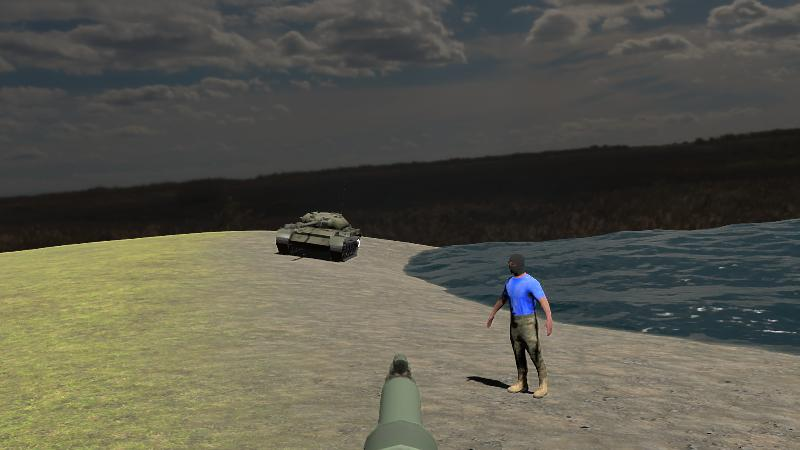Tank: (275, 209, 362, 263)
